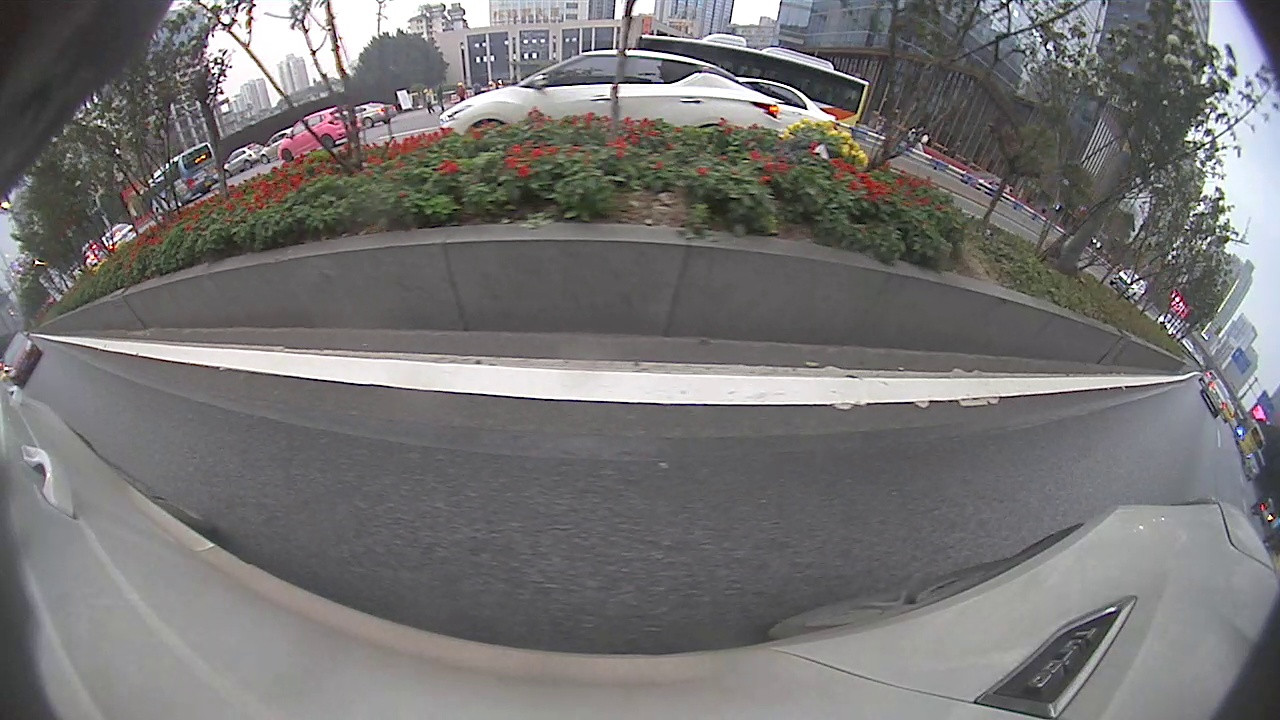car: (438, 47, 781, 131), (1, 334, 43, 390), (1199, 377, 1231, 419)
front: (279, 149, 295, 163)
rear: (319, 134, 336, 150)
